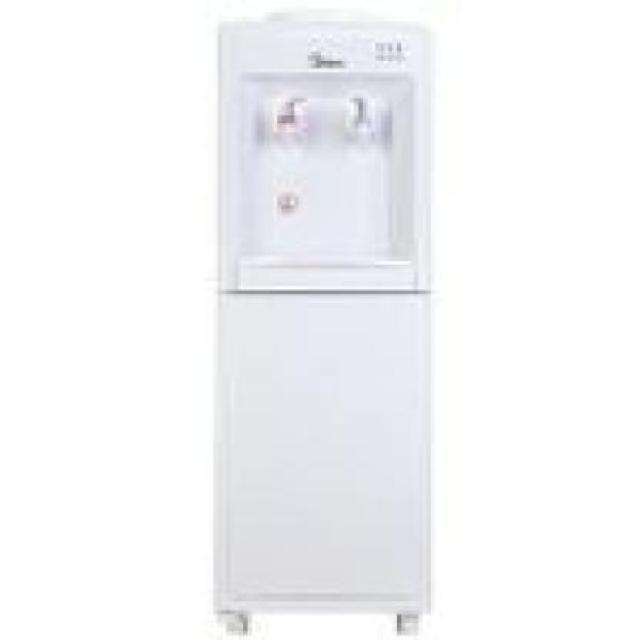cooler: (206, 3, 448, 640)
